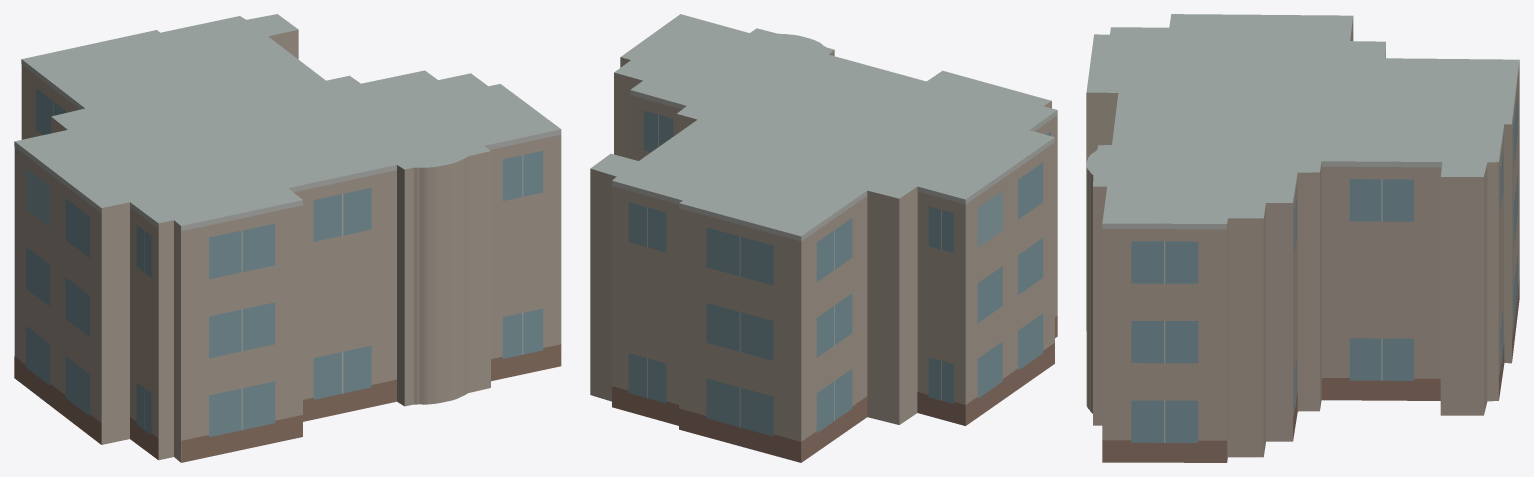
Rendered from survey-upis-32525225.glb.
3 views of the same model, side by side, from view 1: azimuth 30°, elevation 25°; view 2: azimuth 150°, elevation 25°; view 3: azimuth 270°, elevation 25° (orthographic). The views are drawn at different scales.
Visible parts, largest first — view 1: survey-upis-32525225.tmp; view 2: survey-upis-32525225.tmp; view 3: survey-upis-32525225.tmp.
Part boxes in pixels (left/top/right/bottom): survey-upis-32525225.tmp: left=14, top=14, right=561, bottom=462; survey-upis-32525225.tmp: left=590, top=14, right=1057, bottom=462; survey-upis-32525225.tmp: left=1086, top=14, right=1519, bottom=462.
Size of the model in its own units: 20.56 by 10.9 by 17.92.
